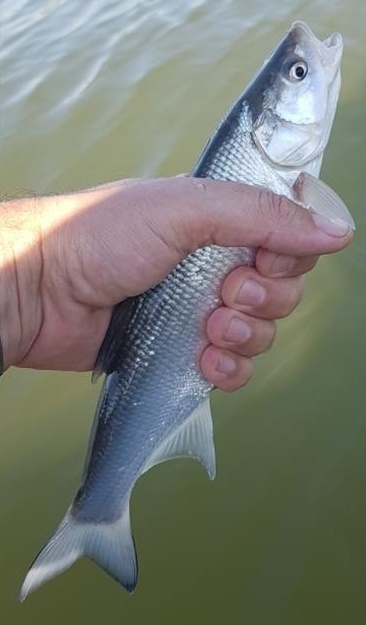Aspius aspius: (20, 20, 346, 605)
